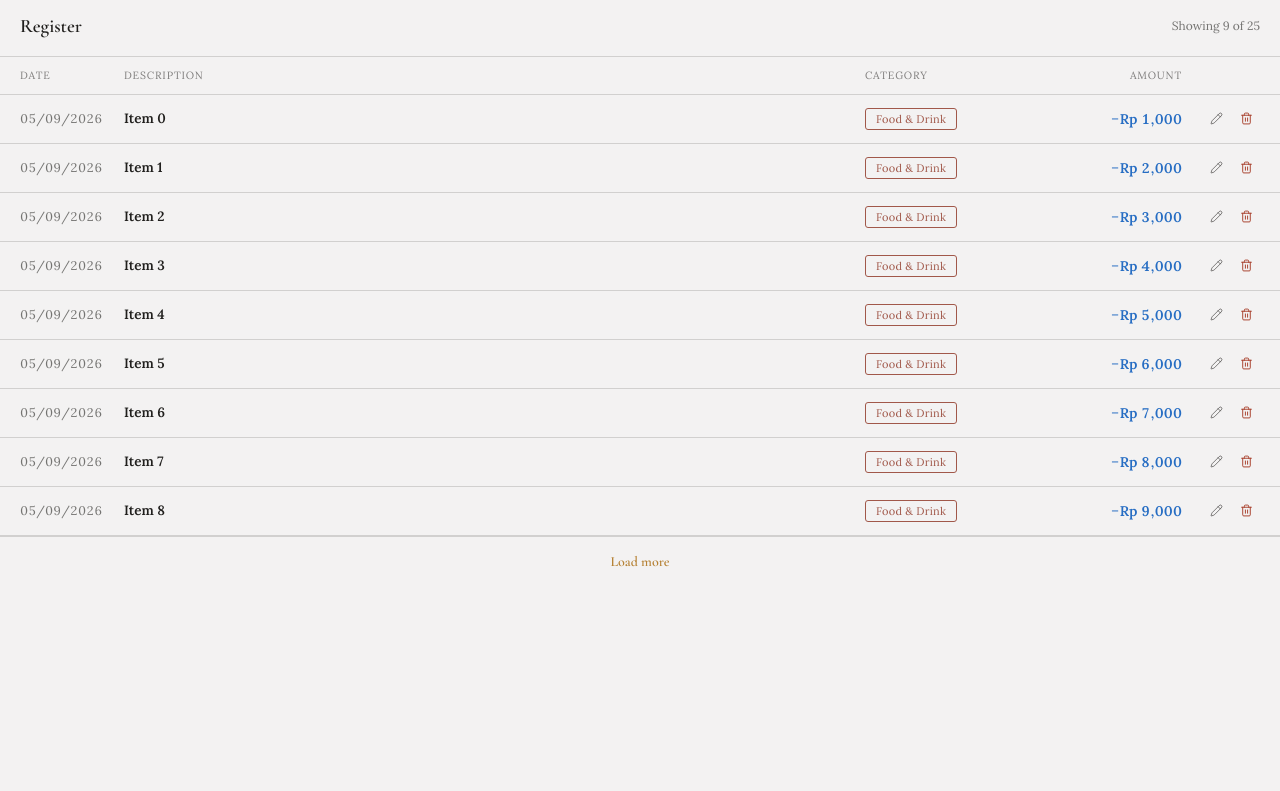
Test: TransactionList pagination › hides Load more once everything is shown
The width and height of the screenshot is (1280, 791).
Click the button "Load more" at {"x": 640, "y": 562}, box [610,552,670,572]
(page scrolled)
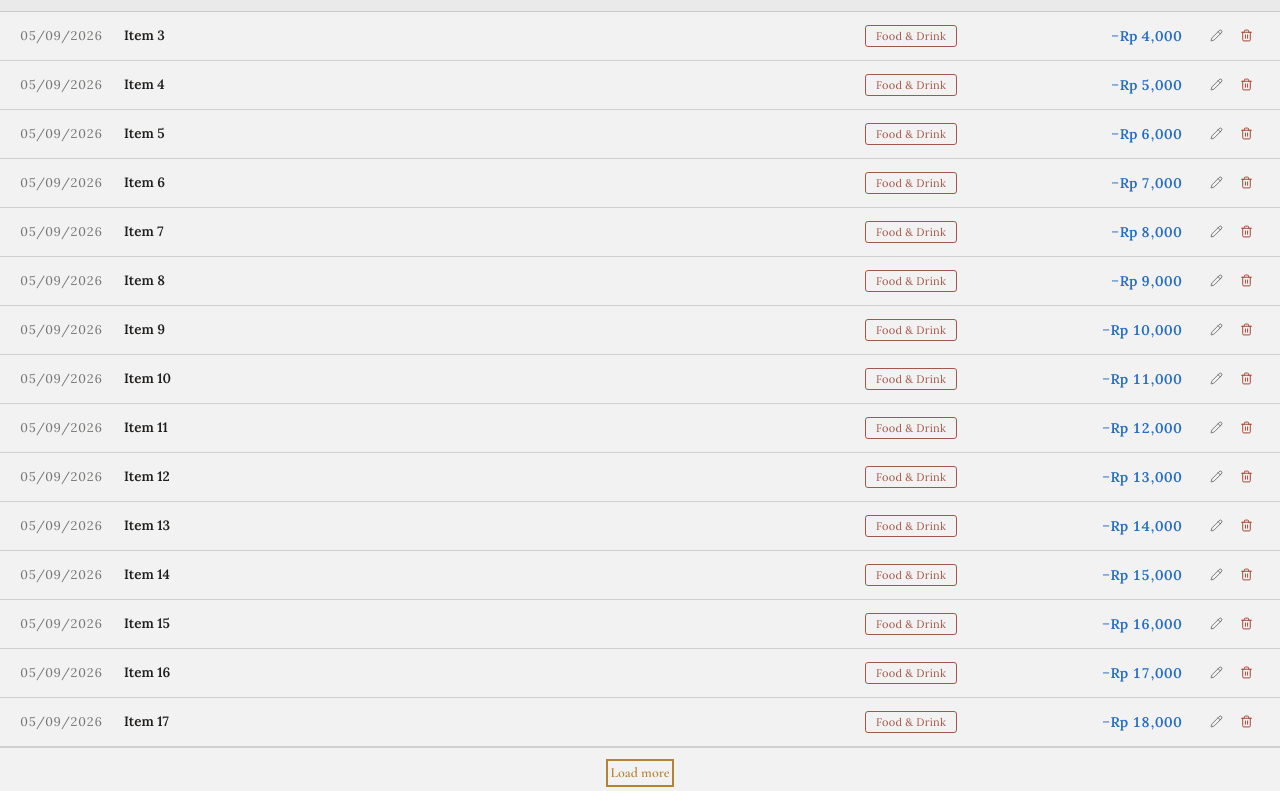
Click the button "Load more" at {"x": 640, "y": 773}, box [610,763,670,783]
(page scrolled)
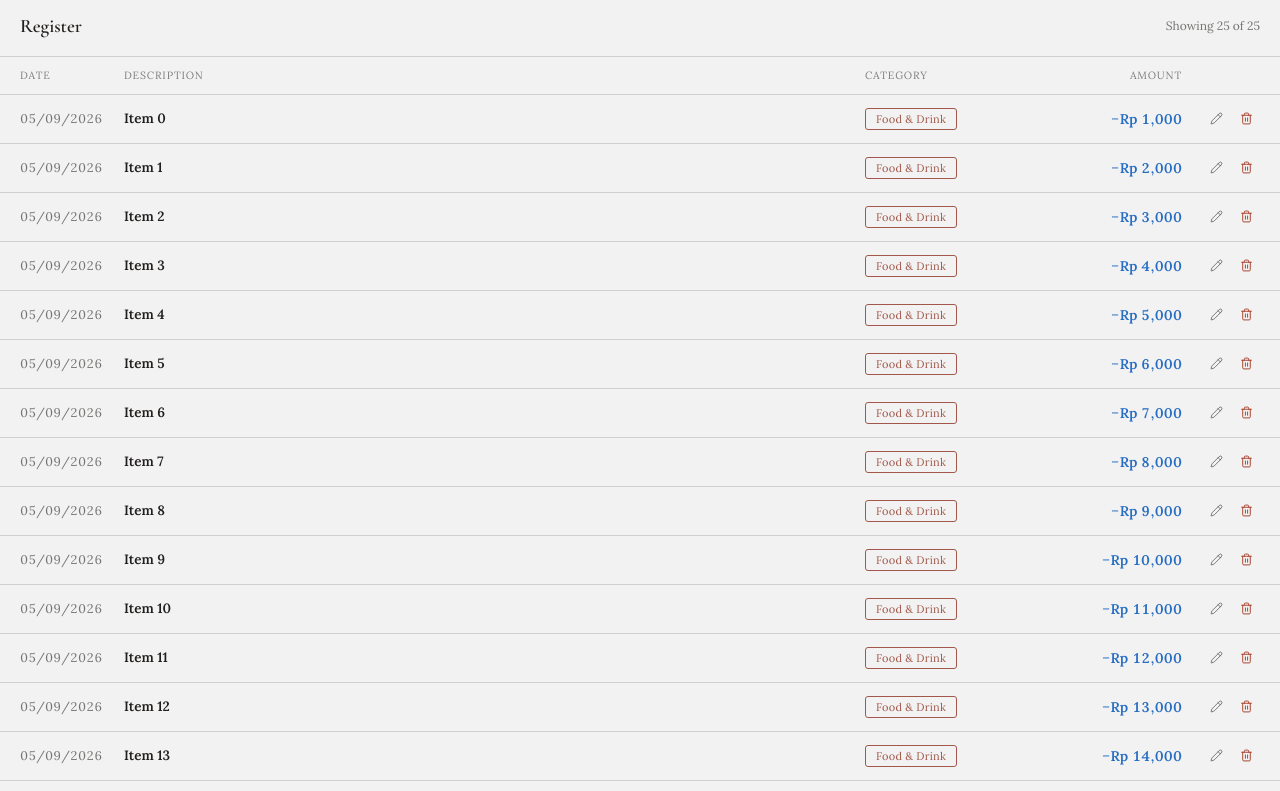
Check: the text "Showing 25 of 25" is shown, box [1166,18,1260,34]
Check: the button "Load more" is gone
